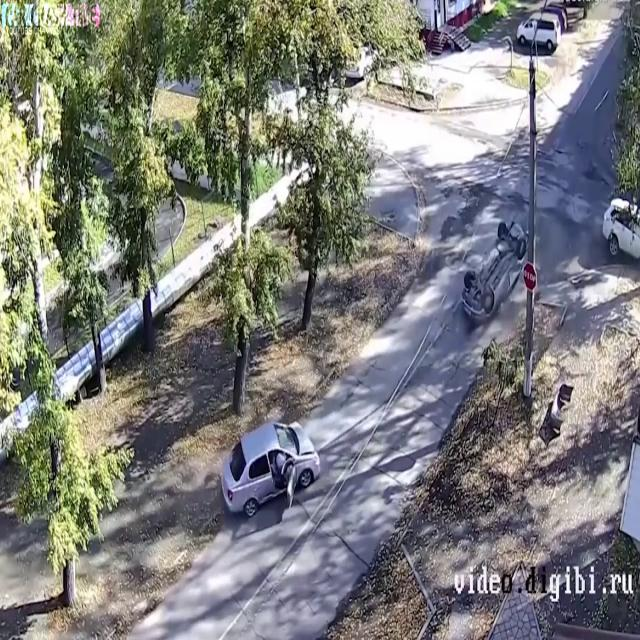Accident: (207, 399, 327, 534), (444, 198, 535, 333)
